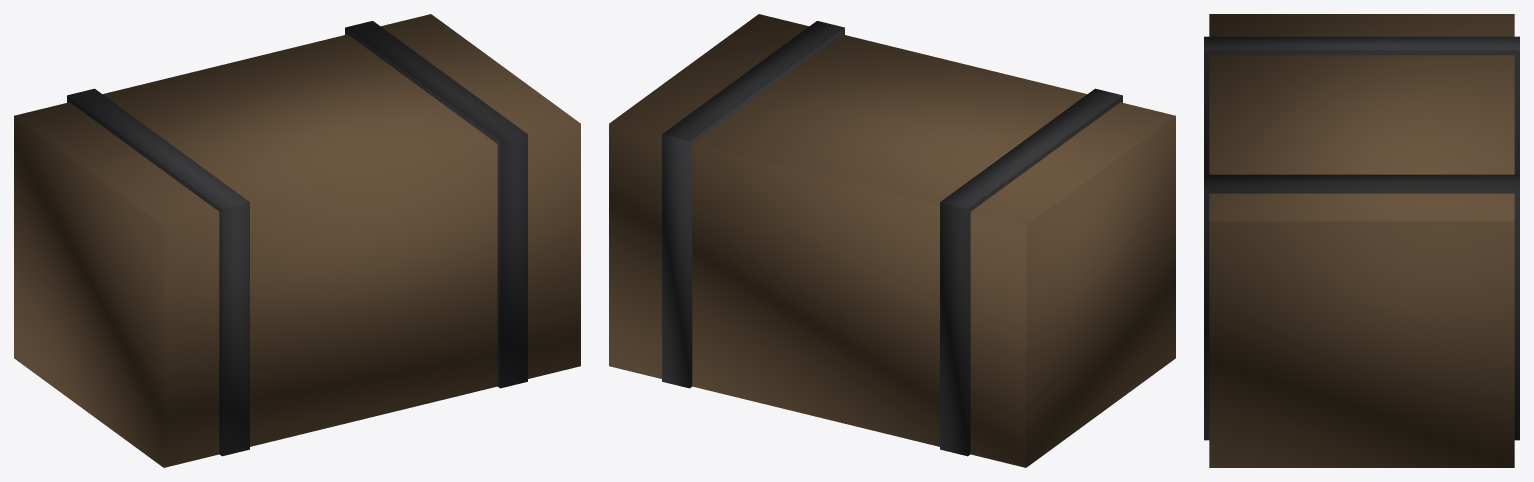
File: cassa.glb
The picture shows the model from 3 angles, left to right: view 1: azimuth 30°, elevation 25°; view 2: azimuth 150°, elevation 25°; view 3: azimuth 270°, elevation 25°; orthographic projection.
Visible parts, largest first — view 1: cassa; view 2: cassa; view 3: cassa.
Part boxes in pixels (box(x1,y1,x2,y2)): cassa: box(14, 14, 580, 467); cassa: box(609, 14, 1175, 467); cassa: box(1204, 14, 1519, 467).
Size of the model in its own units: 0.9 by 0.51 by 0.58.
